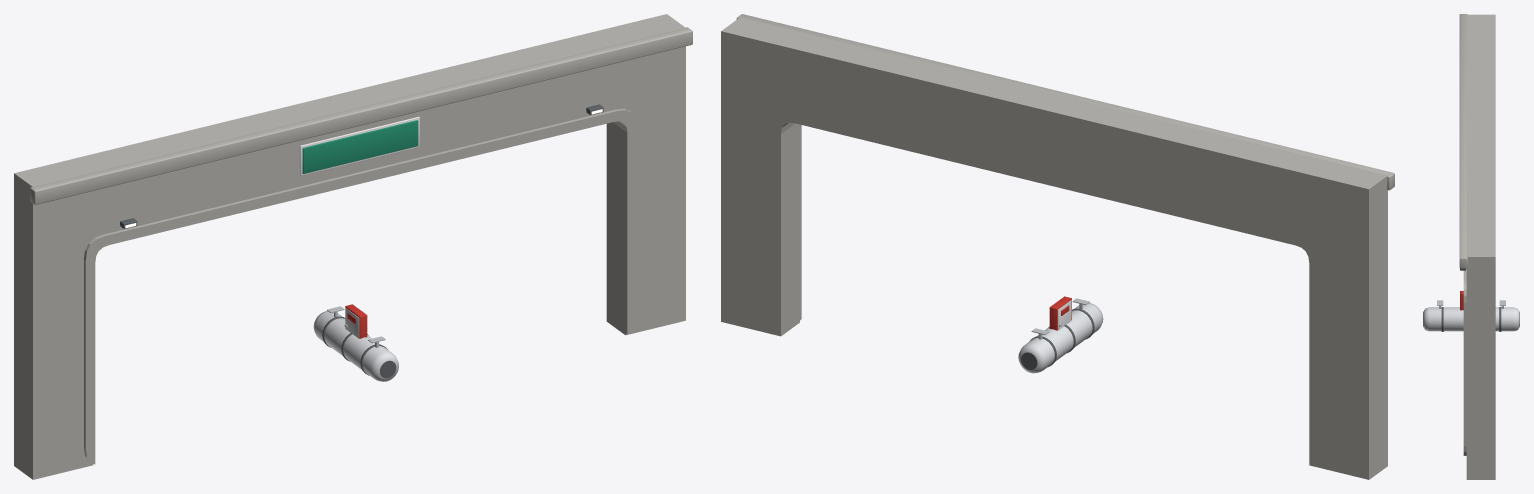
File: env_tunnel.glb
The picture shows the model from 3 angles, left to right: view 1: azimuth 30°, elevation 25°; view 2: azimuth 150°, elevation 25°; view 3: azimuth 270°, elevation 25°; orthographic projection. The views are drawn at different scales.
Visible parts, largest first — view 1: portal, jetfan; view 2: portal, jetfan; view 3: portal, jetfan.
Part boxes in pixels (left/top/right/bottom): portal: left=14, top=14, right=692, bottom=479; jetfan: left=313, top=306, right=398, bottom=381; portal: left=721, top=14, right=1394, bottom=479; jetfan: left=1018, top=298, right=1103, bottom=373; portal: left=1459, top=14, right=1495, bottom=479; jetfan: left=1423, top=300, right=1519, bottom=331.
Size of the model in its own units: 24 by 10.2 by 4.02.
